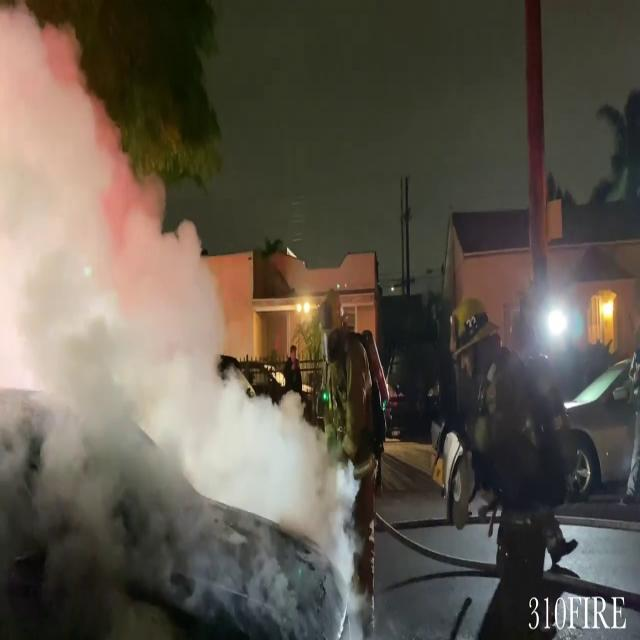Smoke: (0, 2, 328, 632)
